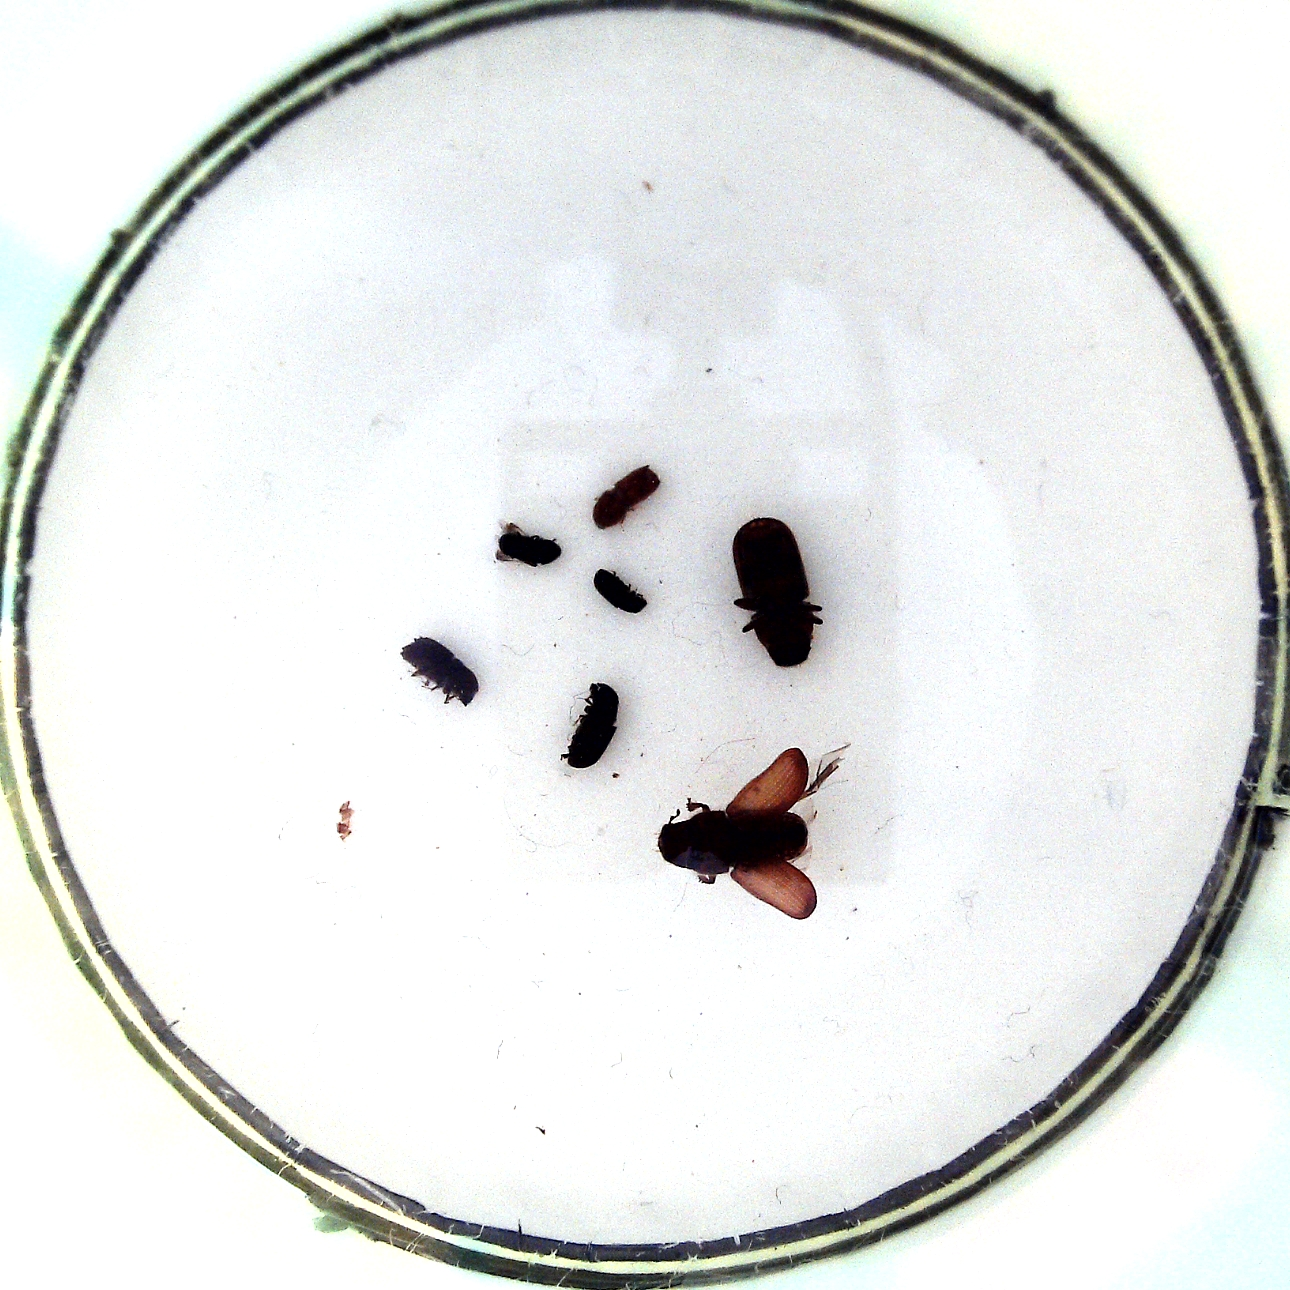Leconte: (658, 749, 853, 921), (731, 513, 825, 669)
Linnaeus: (400, 634, 481, 706)
acuminatus: (589, 465, 662, 530)
armandi: (559, 680, 621, 769)
coleoptera: (496, 519, 563, 571), (591, 563, 650, 615)
